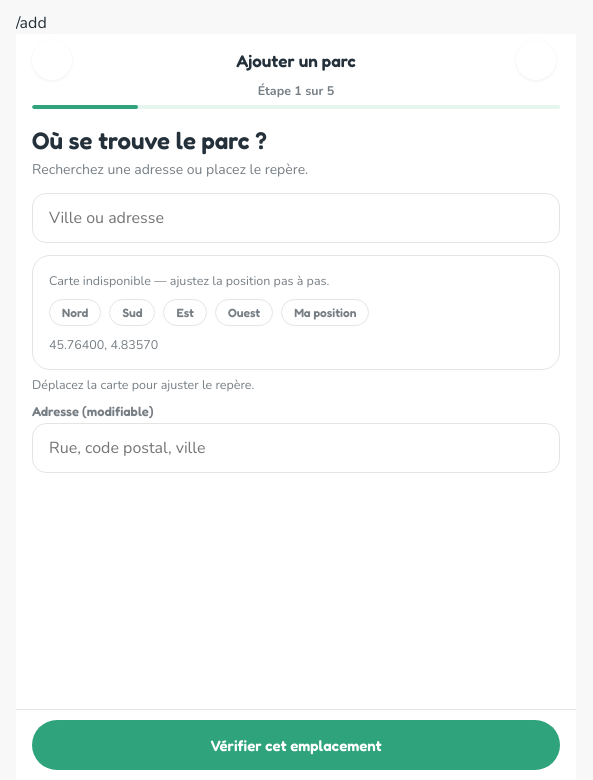
Test: AddPark — persistent draft (LOT 3D.E) › photo step: camera + library inputs, optional — « Continuer » and « Passer cette étape » both advance
Expected: the heading "Où se trouve le parc ?" is shown, 32,126 -> 267,155
Click the button "Vérifier cet emplacement" at (296, 745), box 32,720 -> 560,770
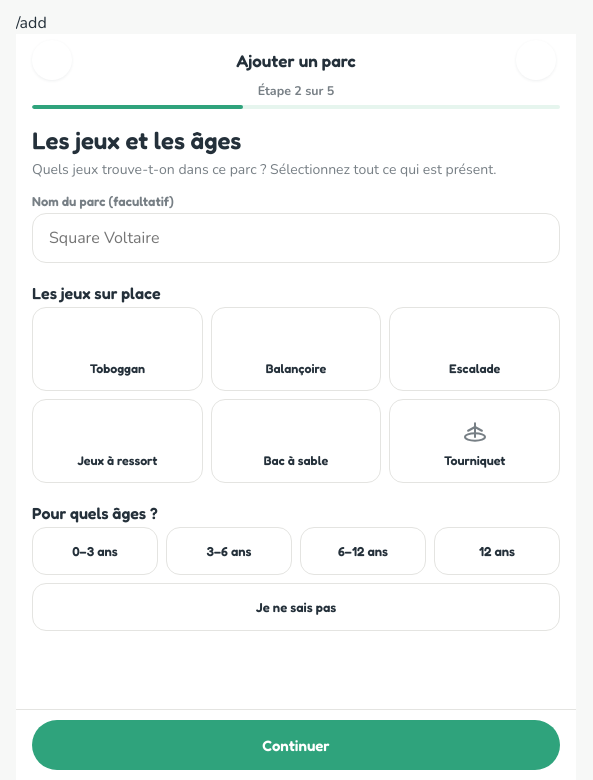
Result: the heading "Les jeux et les âges" is shown at 32,126 -> 241,155
Click the button "Continuer" at (296, 745), box 32,720 -> 560,770
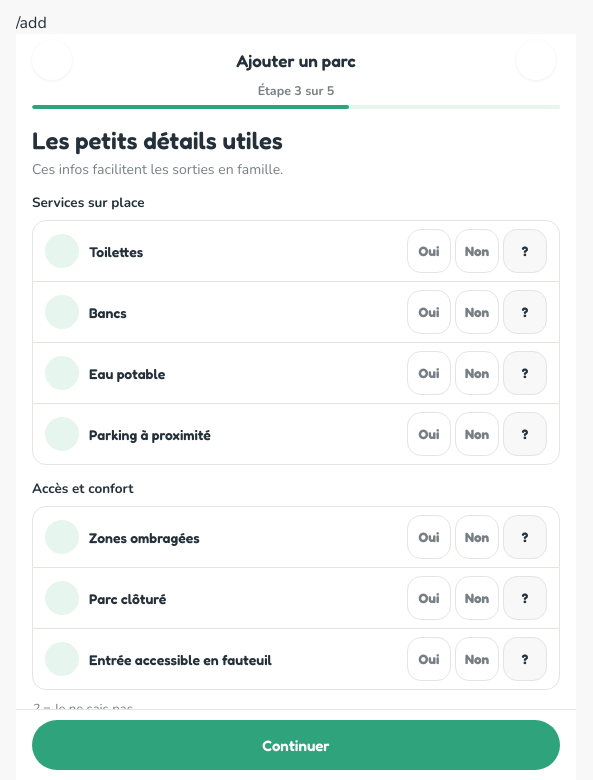
Result: the heading "Les petits détails utiles" is shown at 32,126 -> 283,155
Click the button "Continuer" at (296, 745), box 32,720 -> 560,770
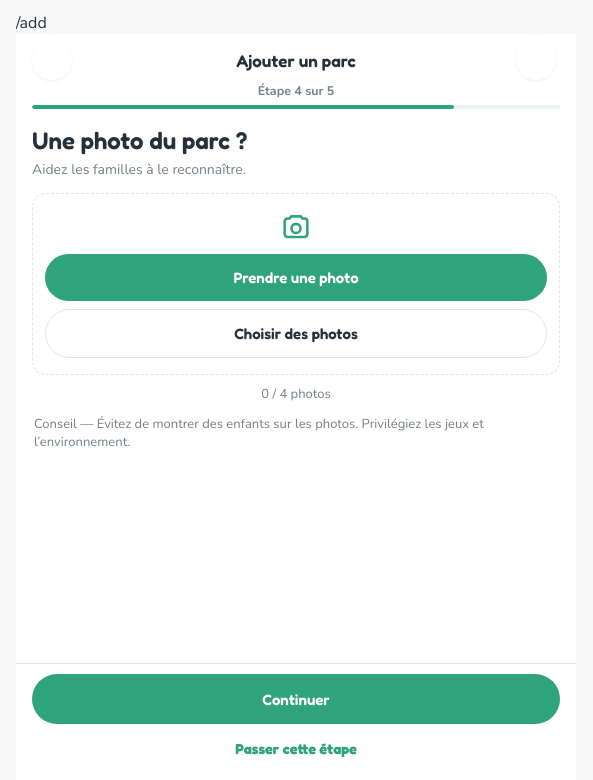
Result: the heading "Une photo du parc ?" is shown at 32,126 -> 247,155
Result: the button "Prendre une photo" is shown at 45,254 -> 547,301
Result: the button "Choisir des photos" is shown at 45,309 -> 547,358
Click the button "Passer cette étape" at (296, 748), box 32,726 -> 560,770
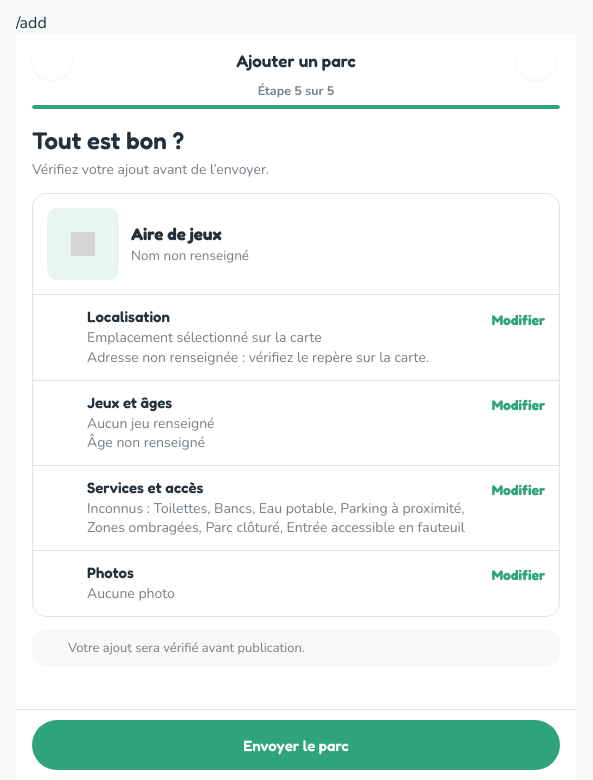
Result: the heading "Tout est bon ?" is shown at 32,126 -> 184,155
Result: the text "Aucune photo" is shown at 87,584 -> 175,603
